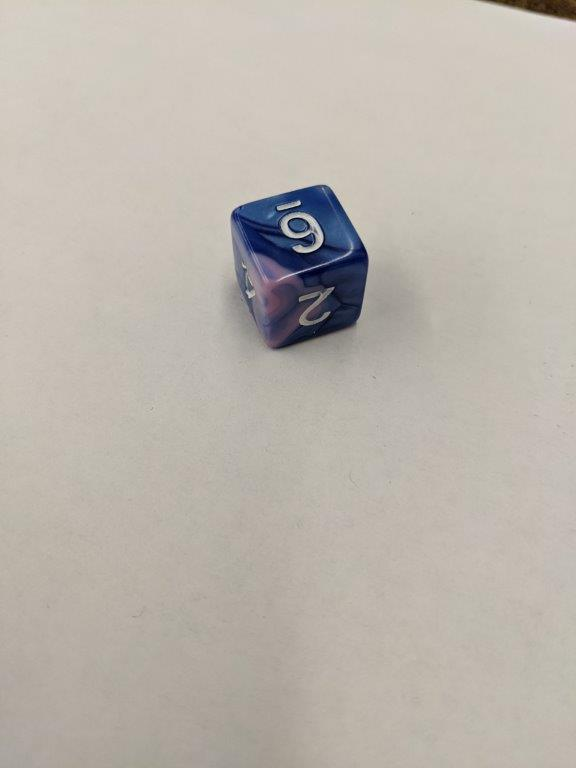d6-6: (229, 185, 368, 351)
